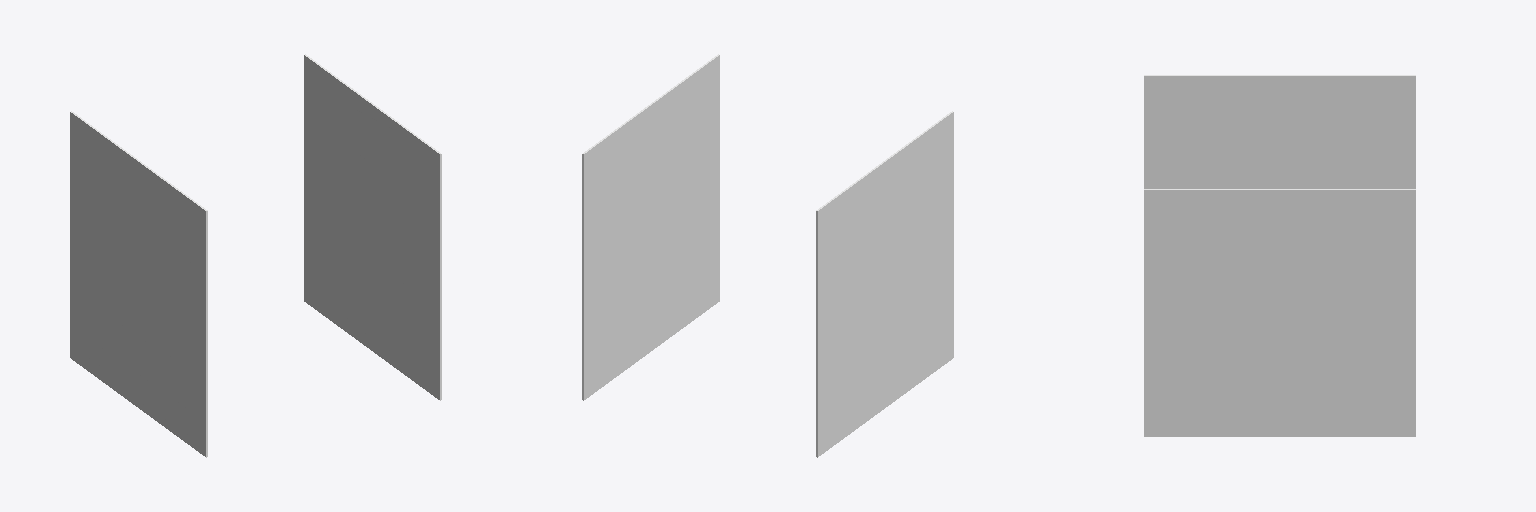
File: skyup.obj
3 views of the same model, side by side, from view 1: azimuth 30°, elevation 25°; view 2: azimuth 150°, elevation 25°; view 3: azimuth 270°, elevation 25° (orthographic).
Bounding box in the file's own units: 126 × 126 × 126.